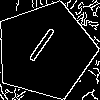I: (20, 25, 58, 71)
